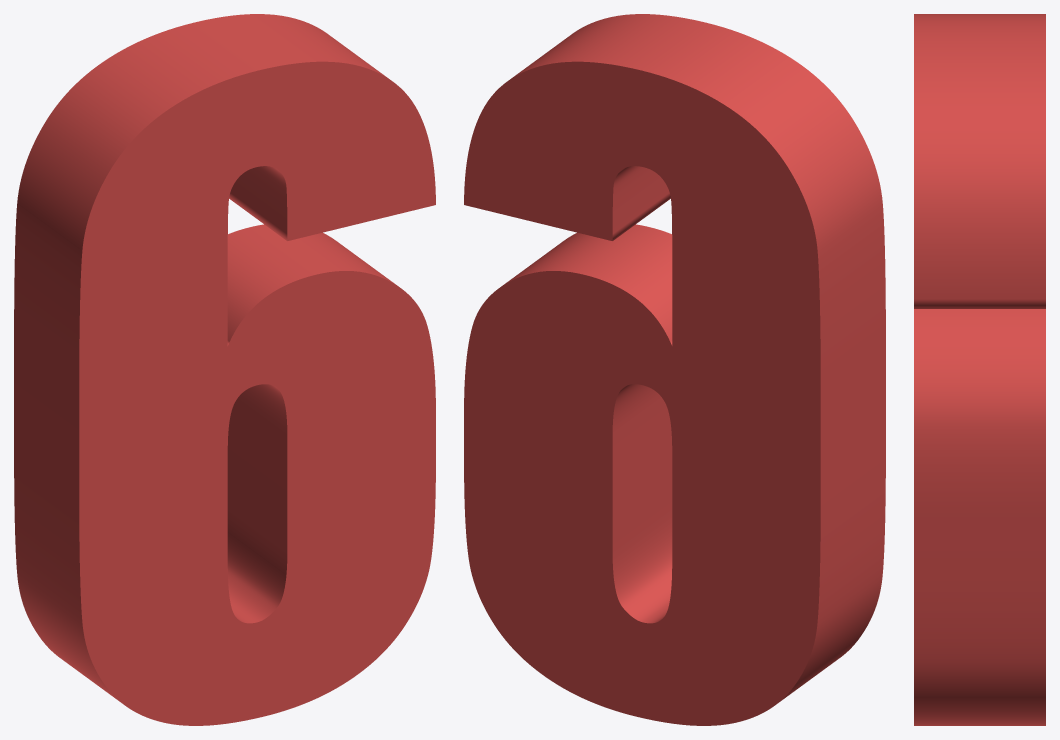
3 views of the same model, side by side, from view 1: azimuth 30°, elevation 25°; view 2: azimuth 150°, elevation 25°; view 3: azimuth 270°, elevation 25° (orthographic).
Parts seen in each view (by area): view 1: テキスト; view 2: テキスト; view 3: テキスト.
Part boxes in pixels (left/top/right/bottom): テキスト: left=14, top=14, right=435, bottom=725; テキスト: left=464, top=14, right=885, bottom=725; テキスト: left=914, top=14, right=1045, bottom=725.
Size of the model in its own units: 0.3161 by 0.5481 by 0.1.
